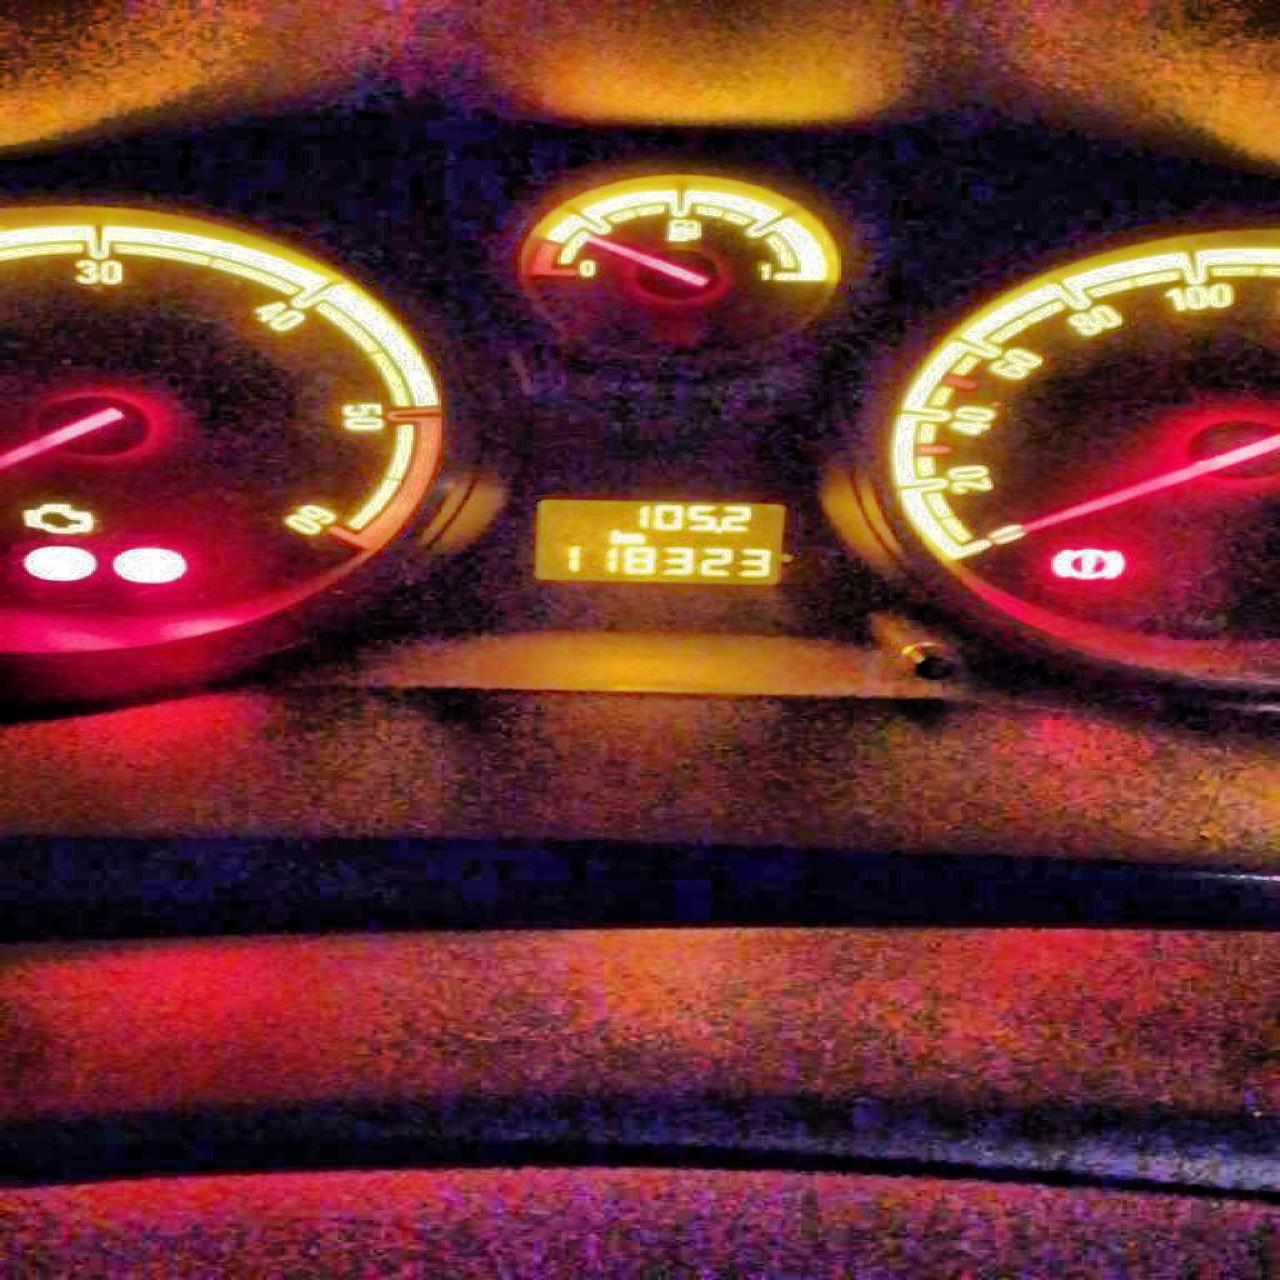-: (712, 526, 722, 532)
0: (651, 502, 682, 530)
1: (561, 544, 583, 571), (600, 545, 618, 573), (633, 504, 648, 527)
2: (695, 546, 734, 576), (717, 504, 754, 531)
3: (658, 545, 693, 576), (735, 546, 769, 576)
5: (685, 504, 715, 530)
8: (620, 545, 655, 574)
X: (607, 527, 622, 545), (622, 532, 645, 544)
odometer: (523, 493, 794, 588)
